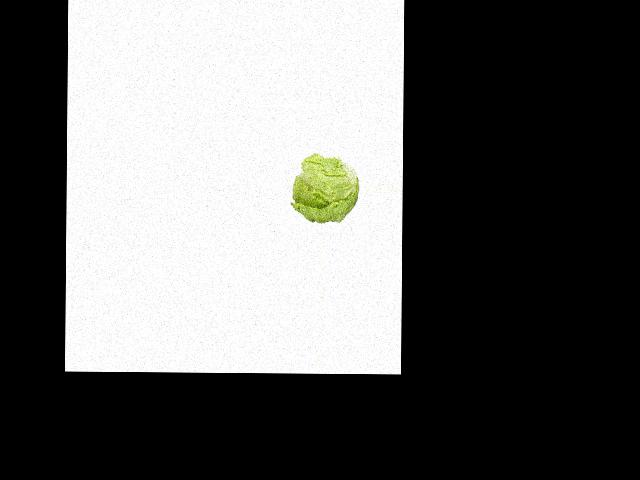lettuce: (291, 156, 361, 223)
